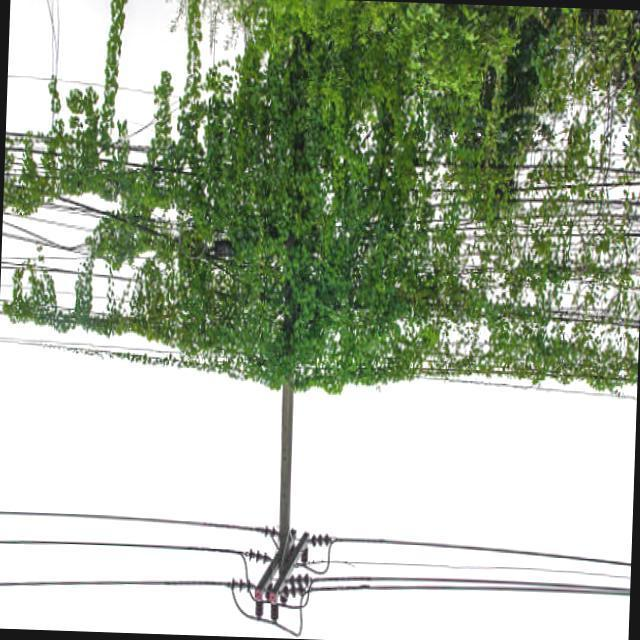critical vegetation: (206, 5, 393, 626)
